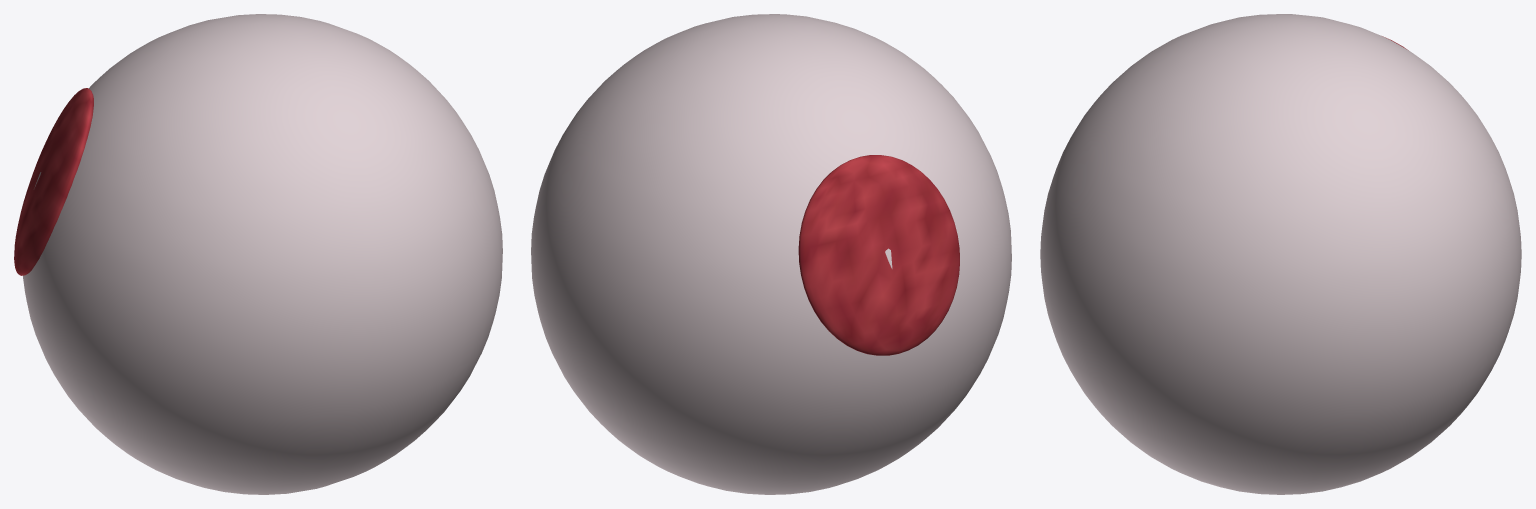
File: hafta_17.glb
The picture shows the model from 3 angles, left to right: view 1: azimuth 30°, elevation 25°; view 2: azimuth 150°, elevation 25°; view 3: azimuth 270°, elevation 25°; orthographic projection.
Parts seen in each view (by area): view 1: Amniyon_kesesi, Plasenta; view 2: Amniyon_kesesi, Plasenta; view 3: Amniyon_kesesi.
Part boxes in pixels (x1,y1,x2,y2): Amniyon_kesesi: (23,14,502,494); Plasenta: (14,88,93,275); Amniyon_kesesi: (531,14,1011,494); Plasenta: (798,155,959,355); Amniyon_kesesi: (1040,14,1521,494).
Size of the model in its own units: 1.49 by 1.49 by 1.49.
